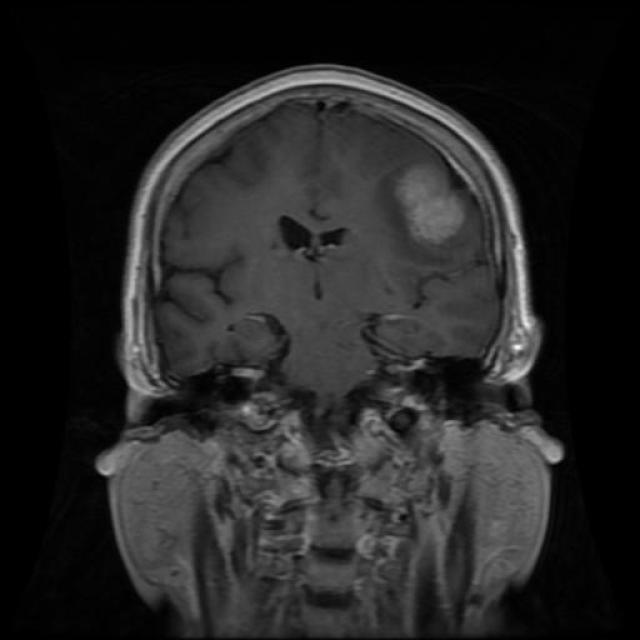meningioma: (394, 166, 465, 245)
